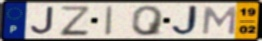I: (104, 5, 115, 37)
J: (170, 5, 202, 38), (29, 6, 55, 36)
M: (200, 6, 239, 36)
Q: (131, 5, 167, 37)
Z: (59, 4, 91, 37)
